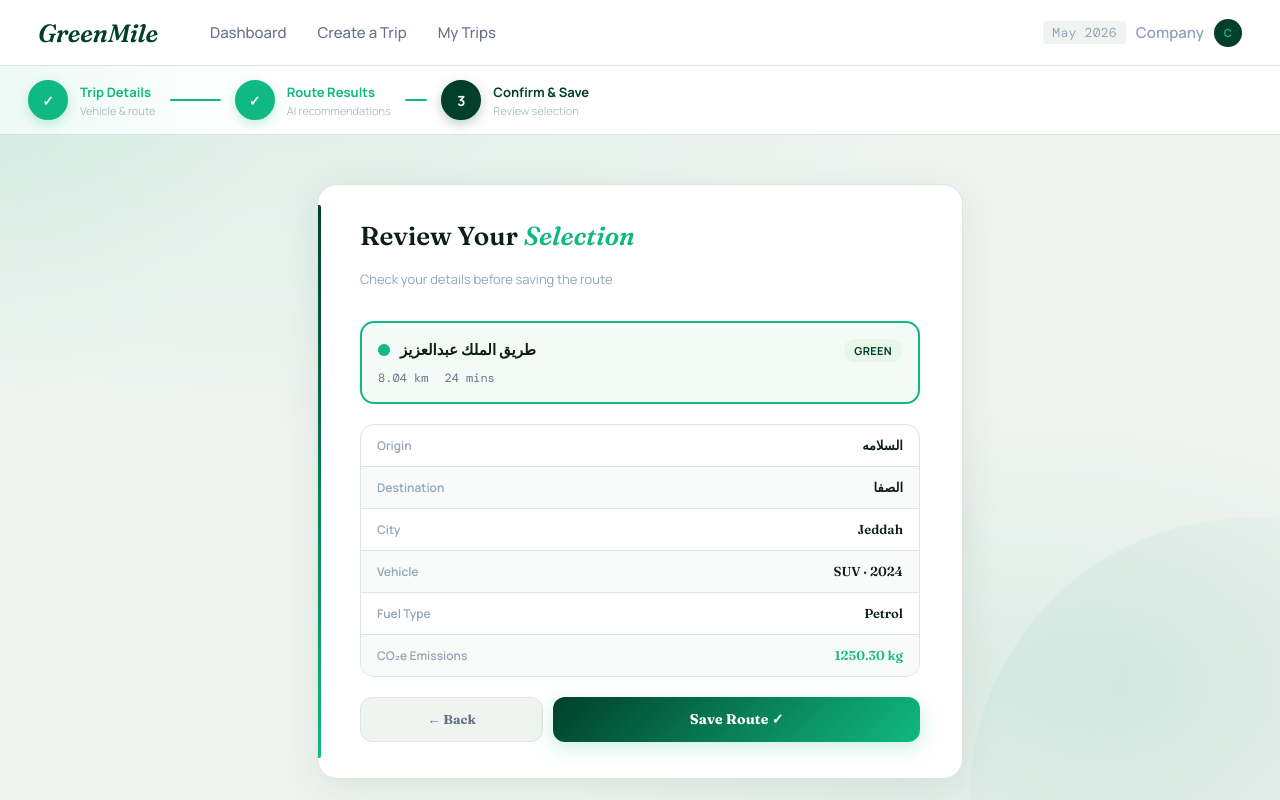
Test: ConfirmScreen — Save: Auth & Validation › shows session expired error when no token
Click the button "Save Route ✓" at (737, 719), box [553, 697, 920, 742]
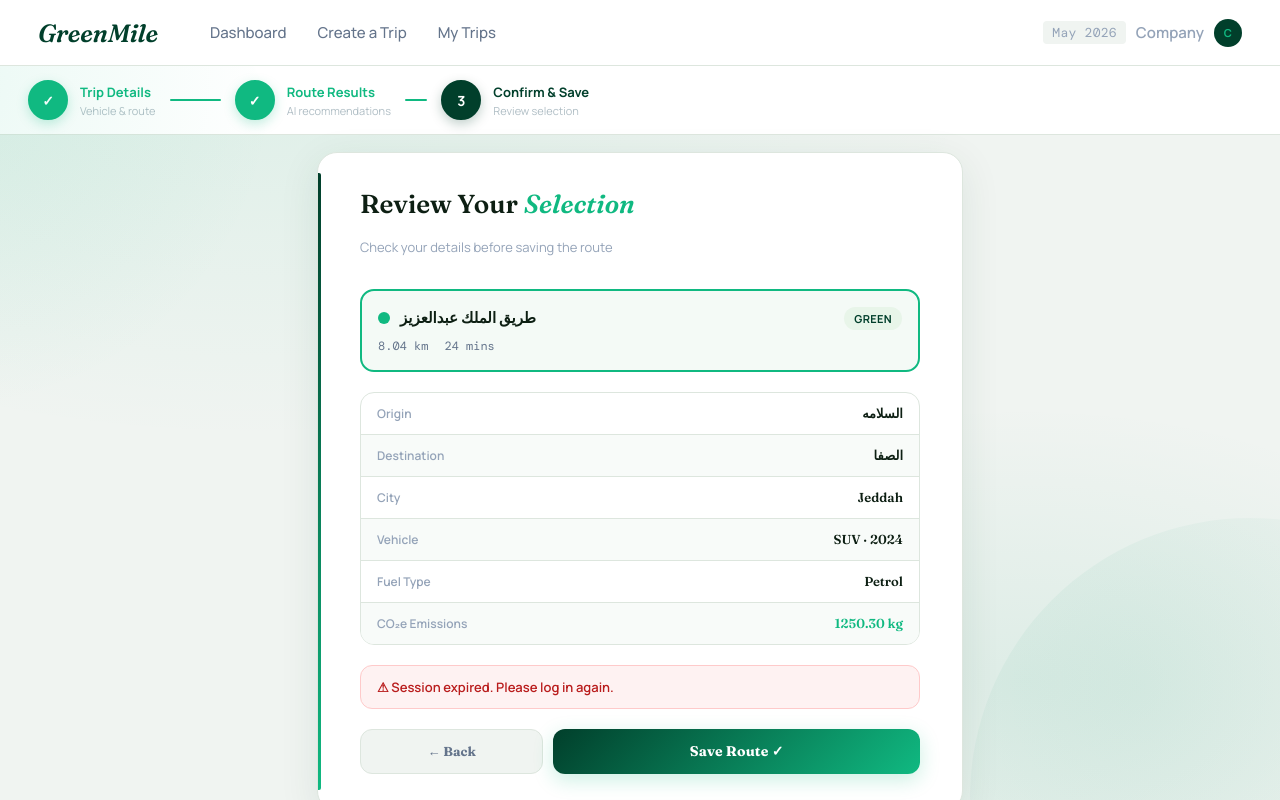
Result: the text "⚠ Session expired. Please log in again." is shown at [360, 665, 920, 709]
